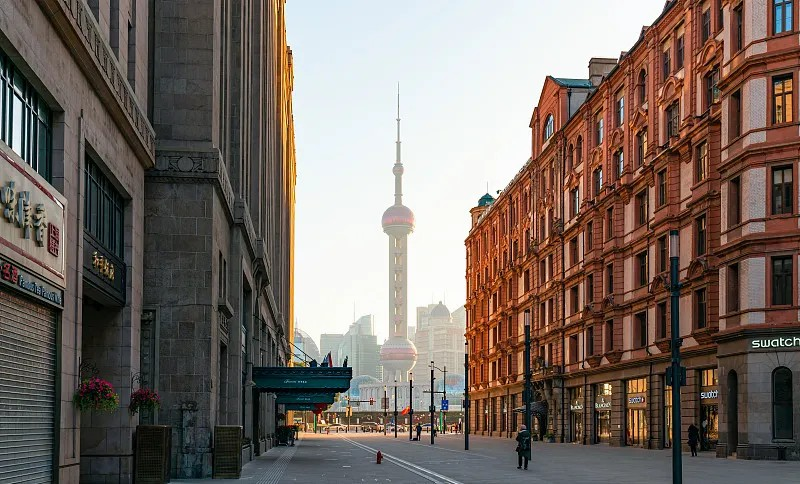Oriental: (380, 80, 417, 381)
